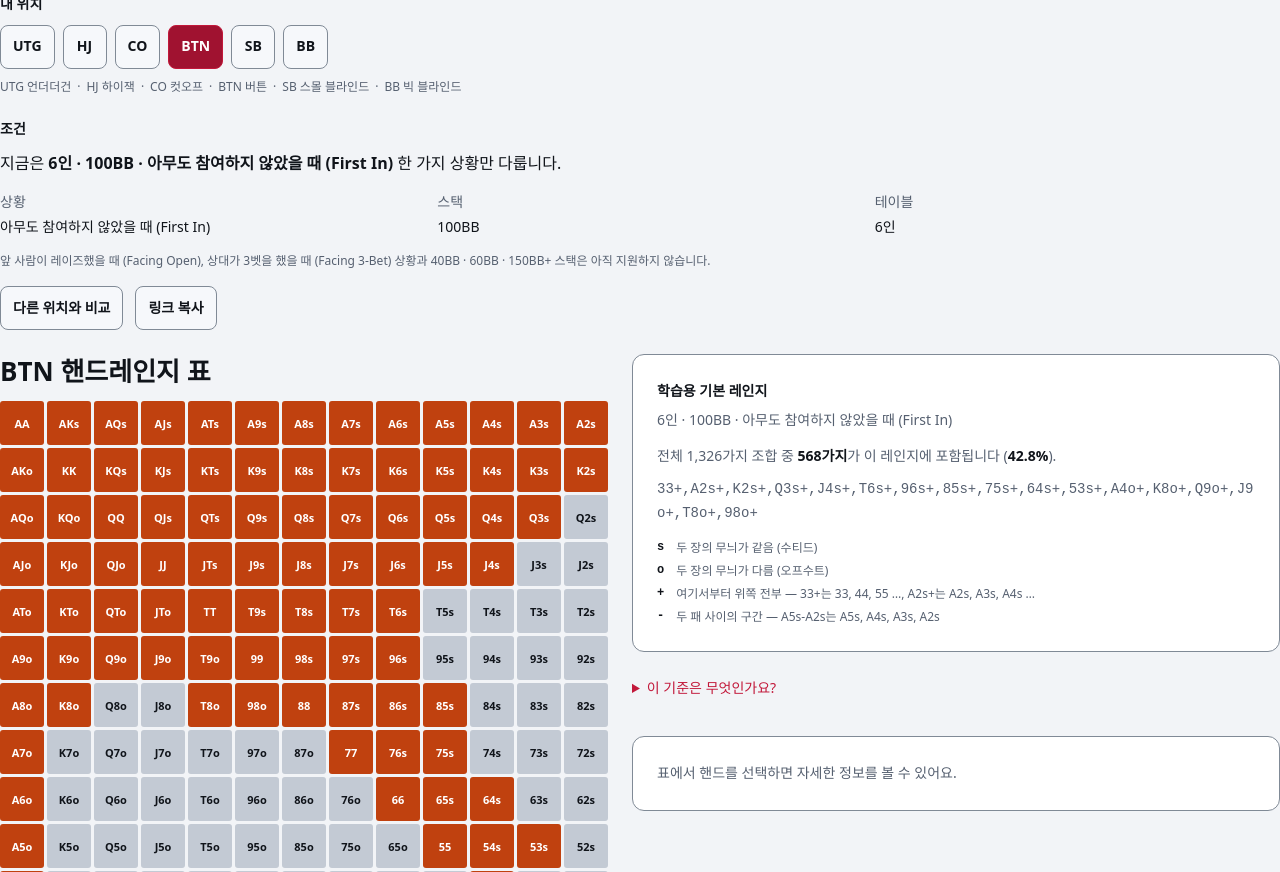
Test: RangeExplorer › Compare mode › shows a real difference view once both sides resolve to real ranges
Expected: the button with aria-label "버튼(BTN) 자리" is shown, left=168, top=24, right=223, bottom=68
Click the button "다른 위치와 비교" at (62, 308), box left=0, top=286, right=124, bottom=330
(page scrolled)
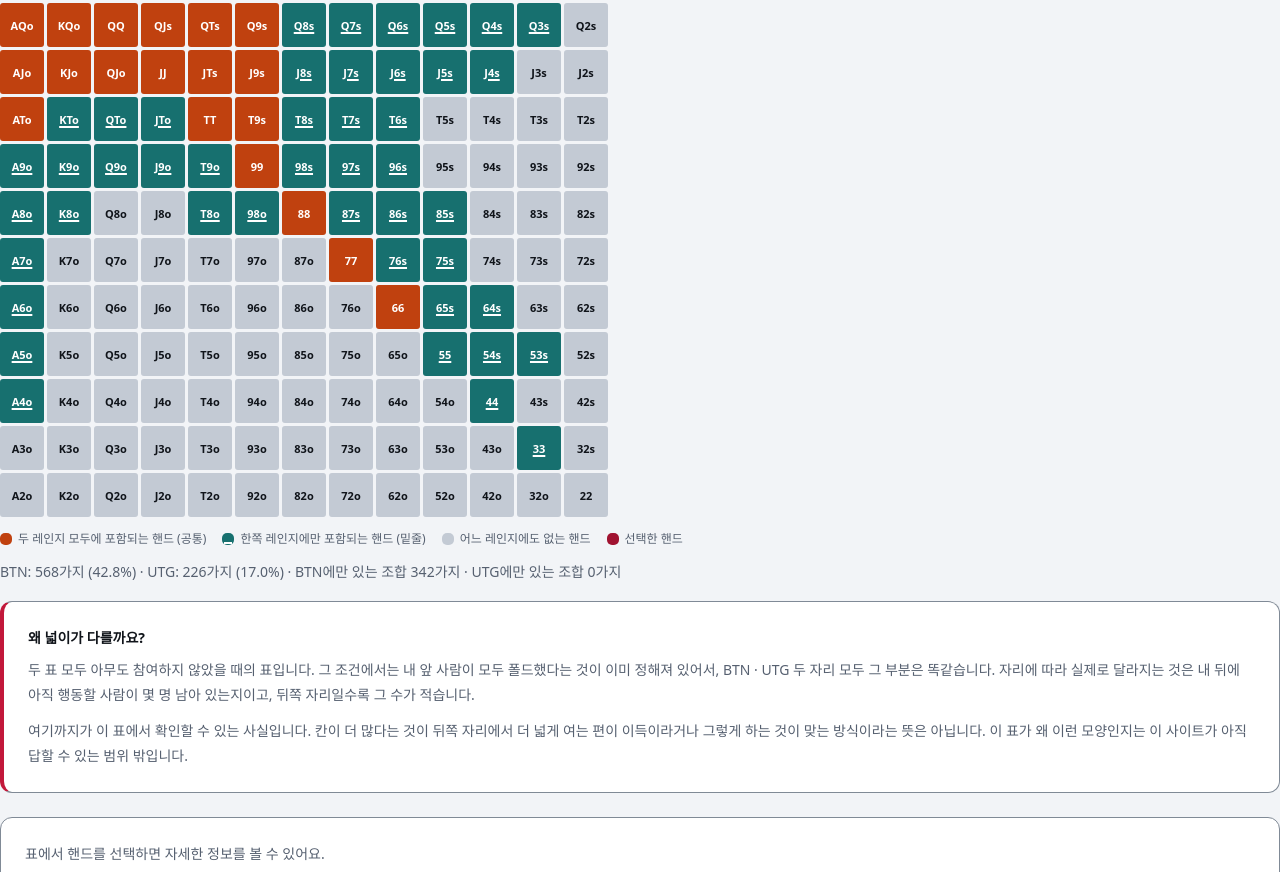
Expected: the text "에만 있는 조합" is shown, left=322, top=562, right=411, bottom=581
Expected: the text "왜 넓이가 다를까요?" is shown, left=28, top=628, right=145, bottom=647
